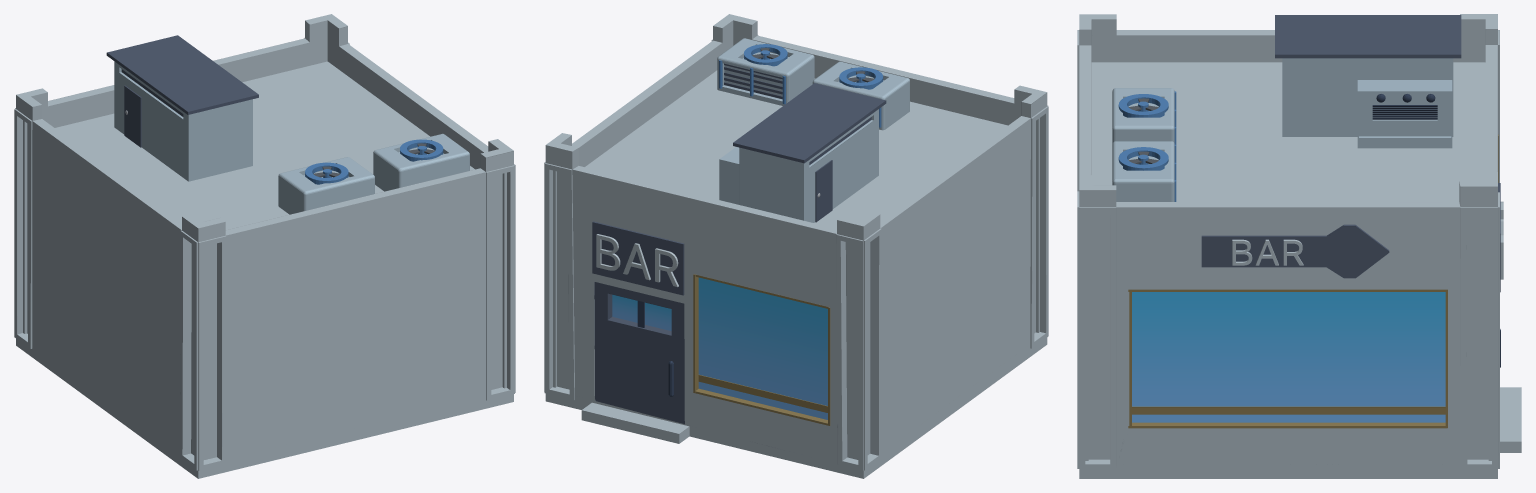
Rendered from CUPIC_BAR.obj.
The picture shows the model from 3 angles, left to right: view 1: azimuth 30°, elevation 25°; view 2: azimuth 150°, elevation 25°; view 3: azimuth 270°, elevation 25°; orthographic projection. The views are drawn at different scales.
Bounding box in the file's own units: 272 × 231 × 283.
1 material, 1 textured.
